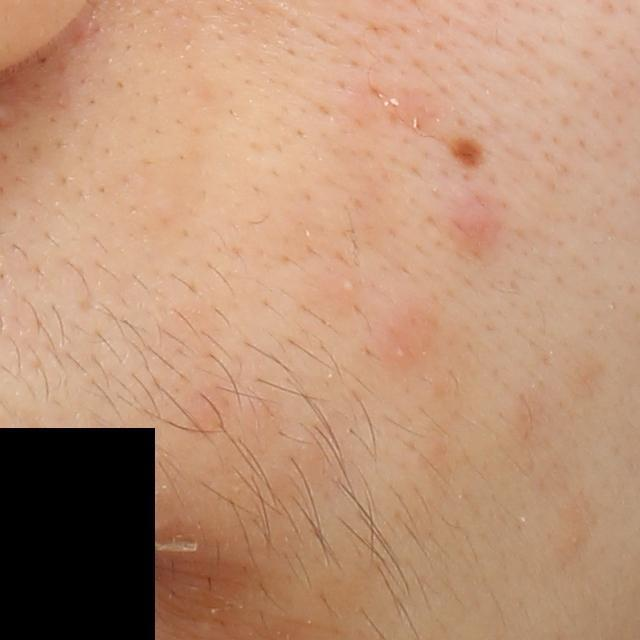comedo: (339, 278, 357, 293)
melasma: (437, 132, 491, 172)
